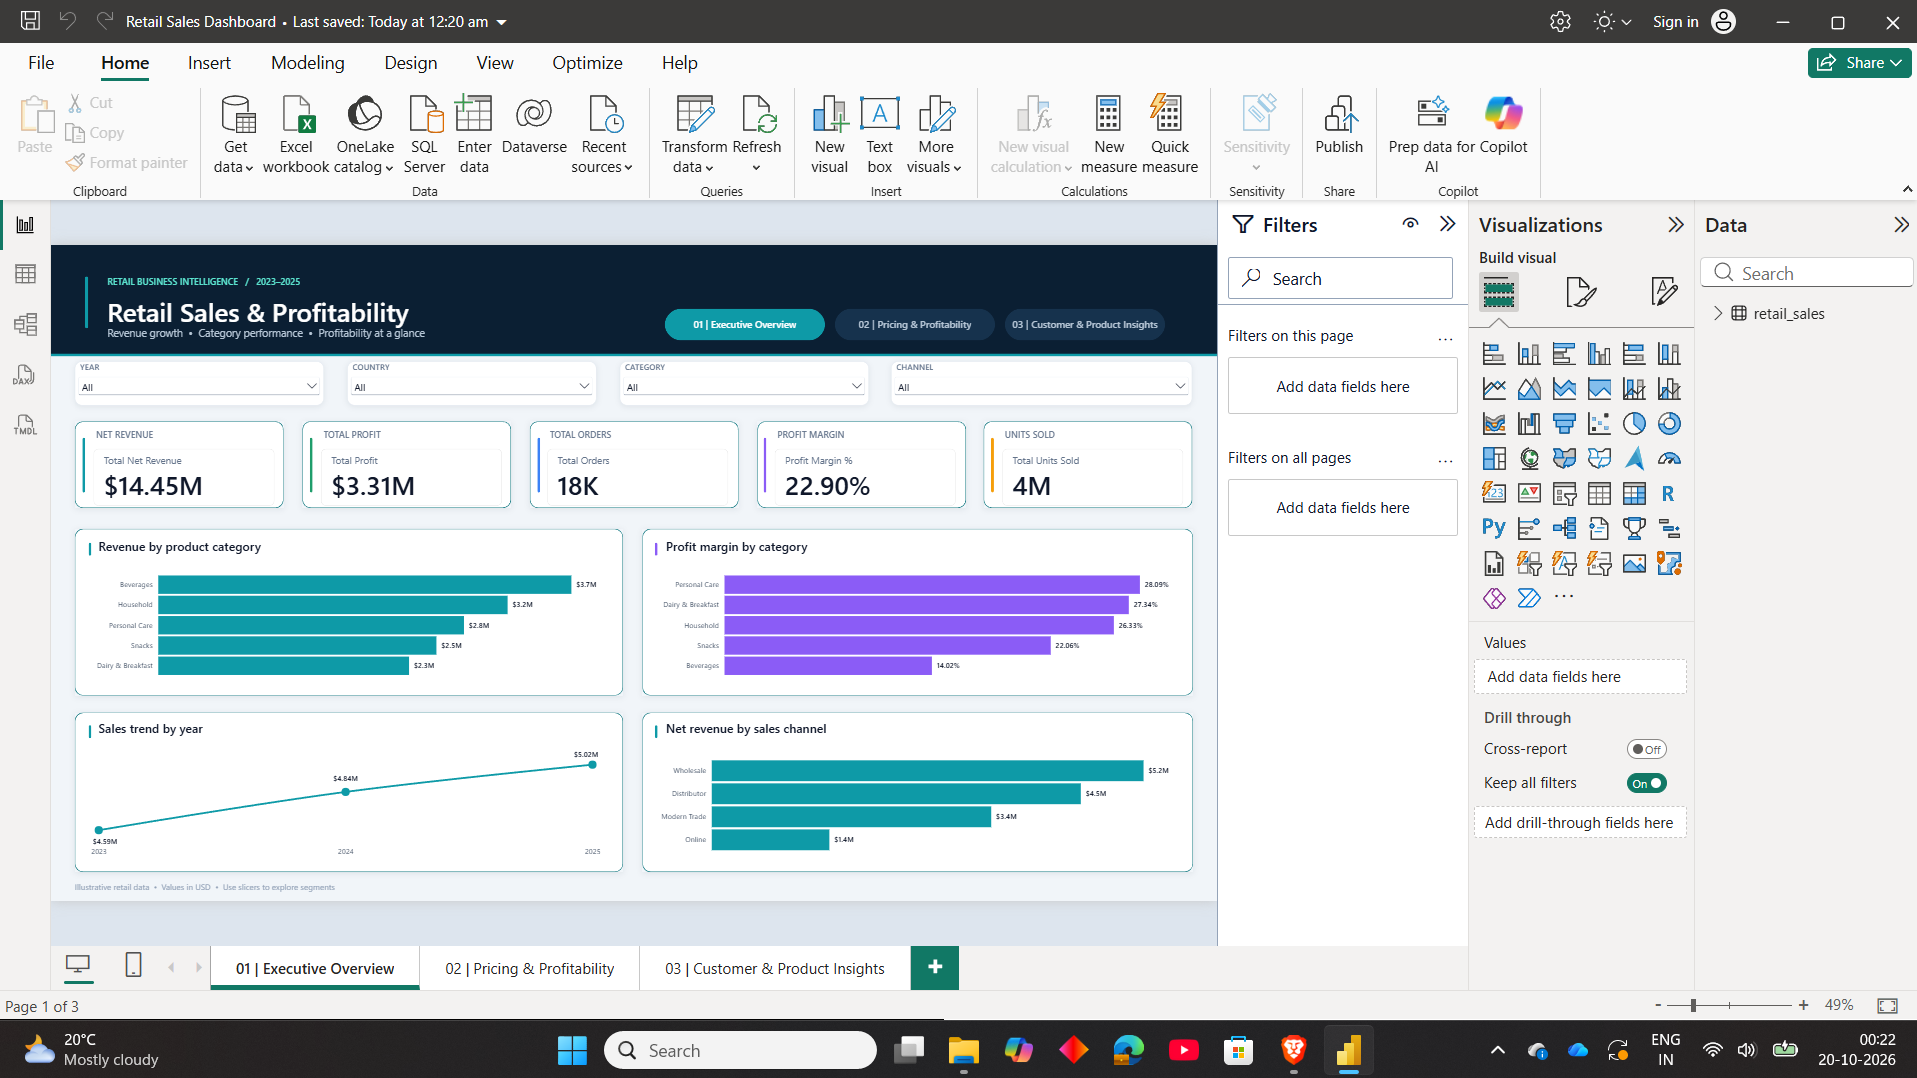

This screenshot's page, from the dashboard's own definition file:
{"tool":"powerbi","page":{"name":"01 | Executive Overview","canvas":[1920,1080],"ordinal":0},"visuals":[{"type":"shape","box":[0,0,1920,180],"z":100},{"type":"shape","box":[0,180,1920,4],"z":120},{"type":"shape","box":[40,467,903,275],"z":140},{"type":"shape","box":[973,467,907,275],"z":140},{"type":"shape","box":[40,769,903,263],"z":140},{"type":"shape","box":[973,769,907,263],"z":140},{"type":"shape","box":[56,52,6,86],"z":150},{"type":"shape","box":[40,291,344,143],"z":150},{"type":"shape","box":[414,291,344,143],"z":150},{"type":"shape","box":[788,291,344,143],"z":150},{"type":"shape","box":[1162,291,344,143],"z":150},{"type":"shape","box":[1536,291,344,143],"z":150},{"type":"shape","box":[52,317,5,91],"z":180},{"type":"shape","box":[426,317,5,91],"z":180},{"type":"shape","box":[800,317,5,91],"z":180},{"type":"shape","box":[1174,317,5,91],"z":180},{"type":"shape","box":[1548,317,5,91],"z":180},{"type":"shape","box":[62,489,5,22],"z":185},{"type":"shape","box":[995,489,5,22],"z":185},{"type":"shape","box":[62,791,5,22],"z":185},{"type":"shape","box":[995,791,5,22],"z":185},{"type":"textbox","box":[79,481,845,43],"z":230},{"type":"textbox","box":[1012,481,849,43],"z":230},{"type":"textbox","box":[79,783,845,43],"z":230},{"type":"textbox","box":[1012,783,849,43],"z":230},{"type":"textbox","box":[74,303,294,33],"z":250},{"type":"textbox","box":[448,303,294,33],"z":250},{"type":"textbox","box":[822,303,294,33],"z":250},{"type":"textbox","box":[1196,303,294,33],"z":250},{"type":"textbox","box":[1570,303,294,33],"z":250},{"type":"textbox","box":[40,1046,1810,28],"z":310},{"type":"textbox","box":[92,50,1000,28],"z":400},{"type":"textbox","box":[92,80,1070,59],"z":500},{"type":"textbox","box":[92,134,1010,26],"z":500},{"type":"cardVisual","fields":{"Data":["retail_sales.Total Net Revenue"]},"box":[70,336,298,94],"z":600},{"type":"cardVisual","fields":{"Data":["retail_sales.Total Profit"]},"box":[444,336,298,94],"z":600},{"type":"cardVisual","fields":{"Data":["retail_sales.Total Orders"]},"box":[818,336,298,94],"z":600},{"type":"cardVisual","fields":{"Data":["retail_sales.Profit Margin %"]},"box":[1192,336,298,94],"z":600},{"type":"cardVisual","fields":{"Data":["retail_sales.Total Units Sold"]},"box":[1566,336,298,94],"z":600},{"type":"barChart","fields":{"Category":["retail_sales.Product_Category"],"Y":["retail_sales.Total Net Revenue"]},"box":[57,523,871,207],"z":700},{"type":"barChart","fields":{"Category":["retail_sales.Product_Category"],"Y":["retail_sales.Profit Margin %"]},"box":[990,523,875,207],"z":700},{"type":"lineChart","fields":{"Category":["retail_sales.Year"],"Y":["retail_sales.Total Net Revenue"]},"box":[57,825,871,195],"z":700},{"type":"barChart","fields":{"Category":["retail_sales.Sales_Channel"],"Y":["retail_sales.Total Net Revenue"]},"box":[990,825,875,195],"z":700},{"type":"slicer","fields":{"Values":["retail_sales.Year"]},"box":[40,192,410,73],"z":740},{"type":"slicer","fields":{"Values":["retail_sales.Country"]},"box":[488,192,410,73],"z":740},{"type":"slicer","fields":{"Values":["retail_sales.Product_Category"]},"box":[936,192,410,73],"z":740},{"type":"slicer","fields":{"Values":["retail_sales.Sales_Channel"]},"box":[1384,192,496,73],"z":740},{"type":"pageNavigator","box":[1010,104,824,52],"z":1200}]}

Visuals, with their boxes on the page's 1920x1080 design canvas (x1, y1, x2, y2). These are canvas units, not pixel positions in the 1917x1078 screenshot, which may show the page scaled, cropped or inside an application window:
shape: 0,0,1920,180
shape: 0,180,1920,184
shape: 40,467,943,742
shape: 973,467,1880,742
shape: 40,769,943,1032
shape: 973,769,1880,1032
shape: 56,52,62,138
shape: 40,291,384,434
shape: 414,291,758,434
shape: 788,291,1132,434
shape: 1162,291,1506,434
shape: 1536,291,1880,434
shape: 52,317,57,408
shape: 426,317,431,408
shape: 800,317,805,408
shape: 1174,317,1179,408
shape: 1548,317,1553,408
shape: 62,489,67,511
shape: 995,489,1000,511
shape: 62,791,67,813
shape: 995,791,1000,813
textbox: 79,481,924,524
textbox: 1012,481,1861,524
textbox: 79,783,924,826
textbox: 1012,783,1861,826
textbox: 74,303,368,336
textbox: 448,303,742,336
textbox: 822,303,1116,336
textbox: 1196,303,1490,336
textbox: 1570,303,1864,336
textbox: 40,1046,1850,1074
textbox: 92,50,1092,78
textbox: 92,80,1162,139
textbox: 92,134,1102,160
cardVisual - retail_sales.Total Net Revenue: 70,336,368,430
cardVisual - retail_sales.Total Profit: 444,336,742,430
cardVisual - retail_sales.Total Orders: 818,336,1116,430
cardVisual - retail_sales.Profit Margin %: 1192,336,1490,430
cardVisual - retail_sales.Total Units Sold: 1566,336,1864,430
barChart - retail_sales.Product_Category x retail_sales.Total Net Revenue: 57,523,928,730
barChart - retail_sales.Product_Category x retail_sales.Profit Margin %: 990,523,1865,730
lineChart - retail_sales.Year x retail_sales.Total Net Revenue: 57,825,928,1020
barChart - retail_sales.Sales_Channel x retail_sales.Total Net Revenue: 990,825,1865,1020
slicer - retail_sales.Year: 40,192,450,265
slicer - retail_sales.Country: 488,192,898,265
slicer - retail_sales.Product_Category: 936,192,1346,265
slicer - retail_sales.Sales_Channel: 1384,192,1880,265
pageNavigator: 1010,104,1834,156
